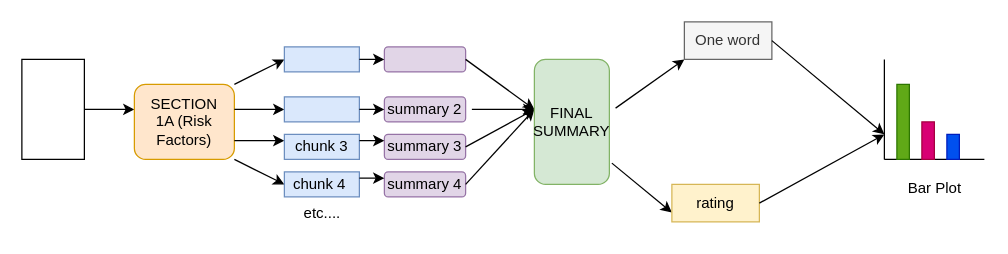
Some shapes in this 1008 by 254 pixel diagram are drawn without their labels. The box of each missing label's shape, as (x1, y1, x2, y2) in pixels:
10K Report: (21, 58, 84, 159)
chunk 1: (283, 46, 359, 72)
chunk 2: (283, 96, 359, 122)
summary 1: (383, 46, 466, 72)
